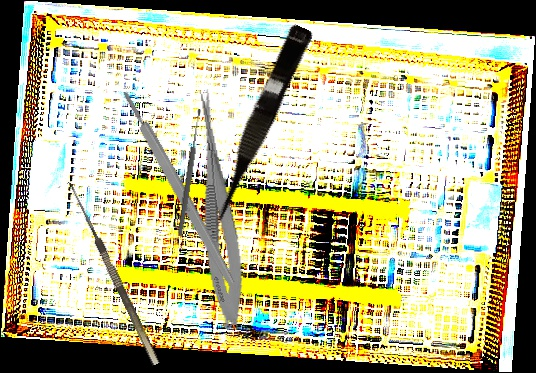Hook Surgical: (57, 179, 160, 371)
Micro Scissor: (199, 20, 315, 231), (183, 87, 251, 328)
Scalpel Handle: (119, 88, 238, 287)
Surgical Spoon: (176, 108, 204, 237)
